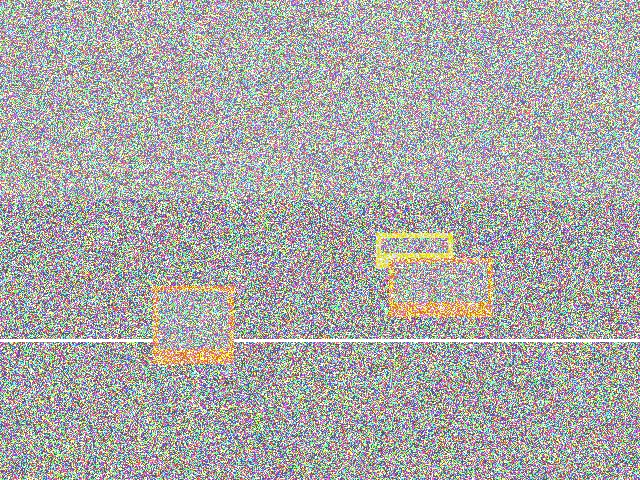bus: (103, 371, 271, 451)
car: (310, 391, 462, 446)
